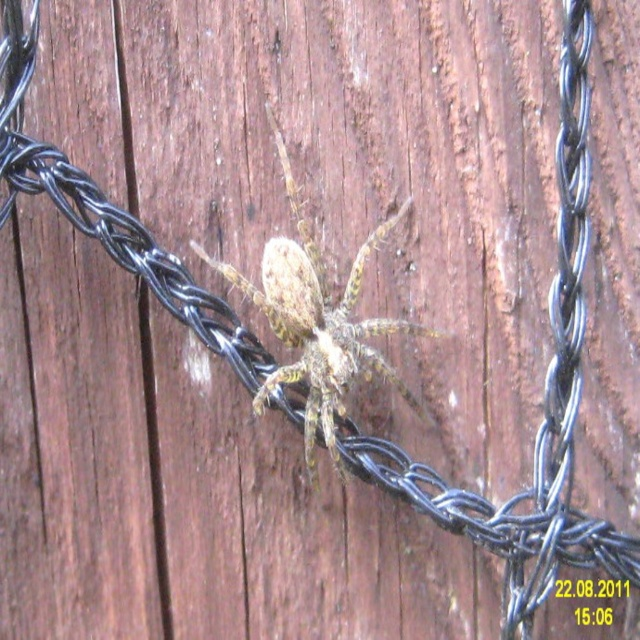Spider: (189, 102, 443, 499)
